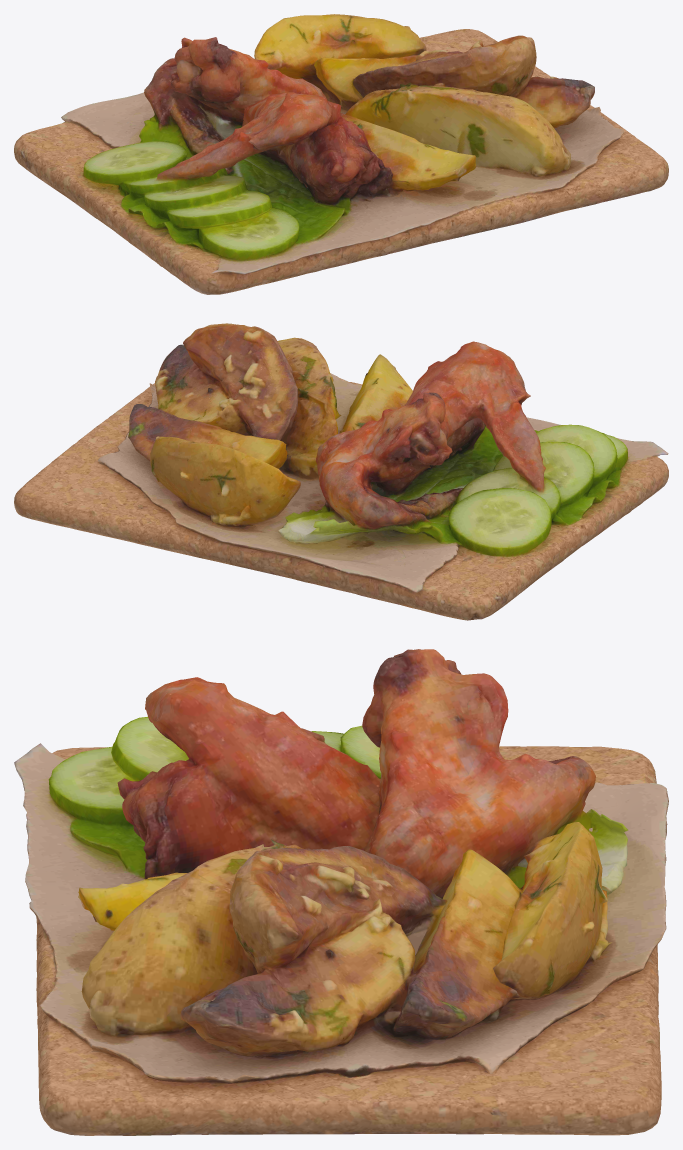
The picture shows the model from 3 angles, top to bottom: view 1: azimuth 30°, elevation 25°; view 2: azimuth 150°, elevation 25°; view 3: azimuth 270°, elevation 25°; orthographic projection. The views are drawn at different scales.
Parts seen in each view (by area): view 1: chicken and potatoes LP_0; view 2: chicken and potatoes LP_0; view 3: chicken and potatoes LP_0.
Boxes of the visible parts, box(x1,y1,x2,y2) form: chicken and potatoes LP_0: box(14, 14, 668, 294); chicken and potatoes LP_0: box(14, 323, 668, 620); chicken and potatoes LP_0: box(14, 649, 668, 1135).
Bounding box in the file's own units: 0.1982 × 0.0575 × 0.1515.
Materials: 1 (1 with a texture image).
